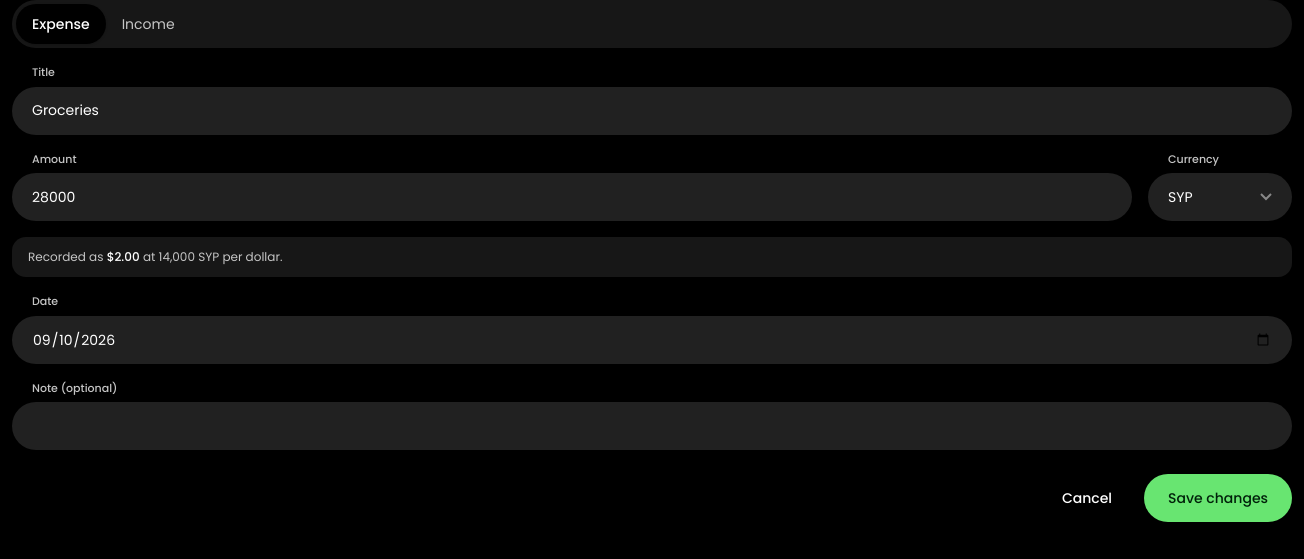
it: OperationForm › warns that switching currency replaces the recorded rate
Select "USD" in the dropdown labelled "Currency" at (1220, 197), box [1148,173,1292,221]
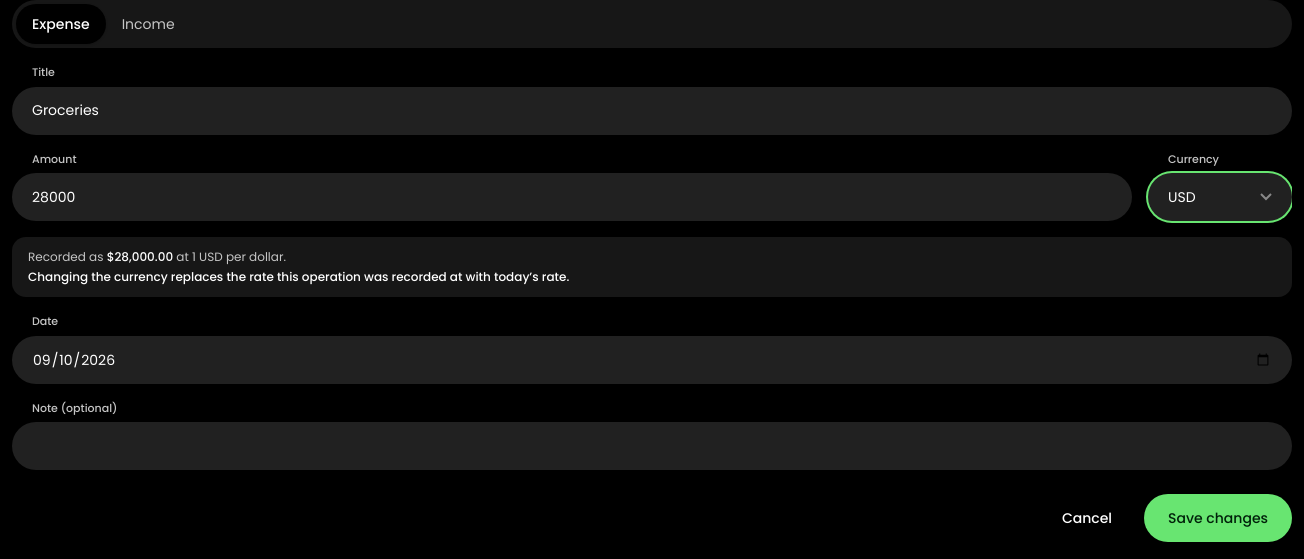
Expected: the text "replaces the rate this operation was recorded at" is shown, [28,268,569,285]
